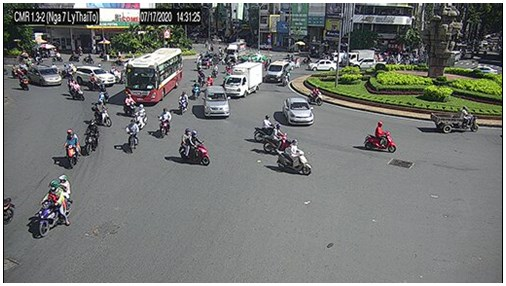xe_ba_gac: (428, 103, 483, 138)
xe_ban_tai: (352, 56, 388, 70)
xe_buyt: (119, 45, 183, 106)
xe_hoi: (282, 93, 316, 128), (74, 61, 116, 89), (204, 85, 230, 120), (27, 62, 62, 88), (464, 61, 498, 77), (307, 57, 334, 74)
xe_may: (32, 172, 72, 239), (275, 138, 311, 177), (178, 128, 210, 168), (362, 121, 399, 153), (262, 121, 293, 154), (251, 114, 275, 142), (63, 128, 80, 166), (90, 98, 111, 127), (83, 118, 99, 155), (125, 118, 140, 154), (157, 107, 172, 139), (66, 77, 85, 100), (306, 86, 325, 106), (86, 72, 105, 92), (133, 103, 147, 130), (122, 90, 136, 117), (176, 91, 189, 114), (190, 79, 202, 100), (279, 67, 292, 86), (18, 70, 29, 91), (210, 62, 219, 78), (195, 60, 204, 73)
xe_tai: (224, 61, 264, 100), (339, 46, 374, 67)
